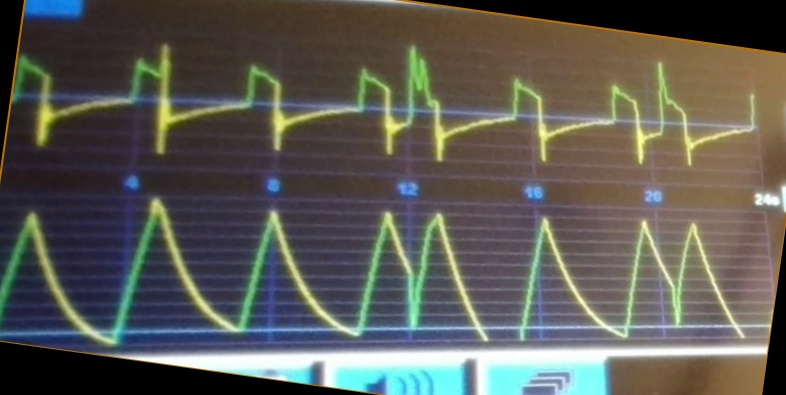Double_Triggering Flow: (12, 41, 703, 173)
Double_Triggering Volume: (18, 201, 740, 346)
